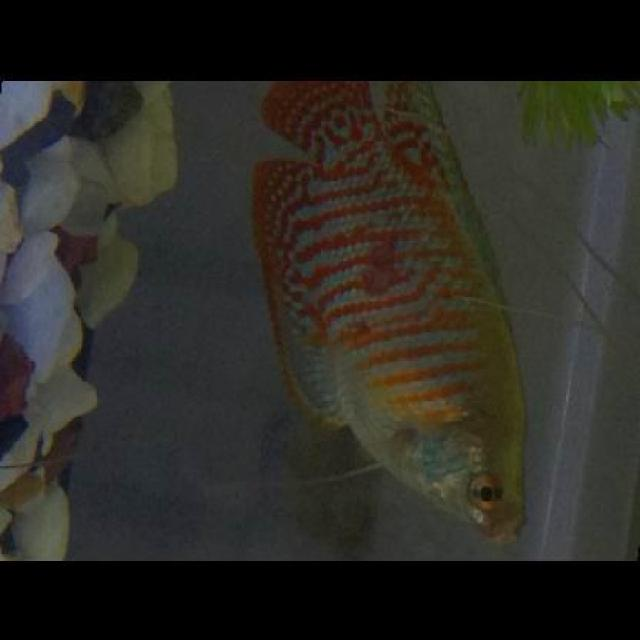Gourami: (250, 80, 532, 538)
